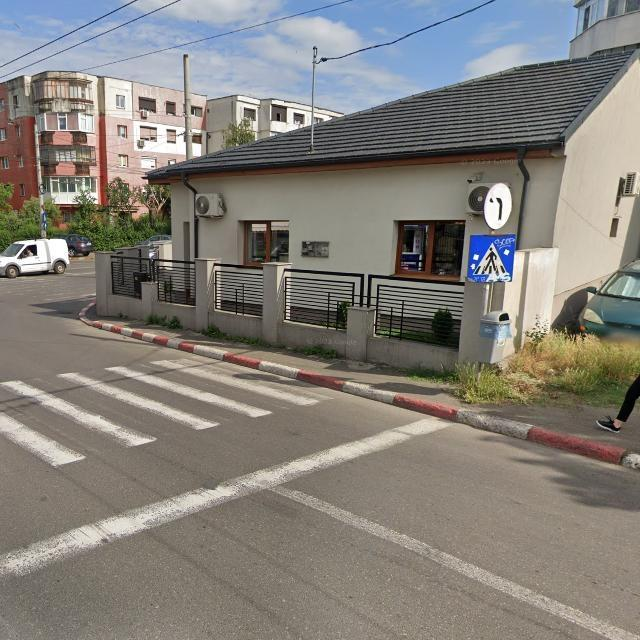info_crosswalk: (466, 234, 514, 283)
